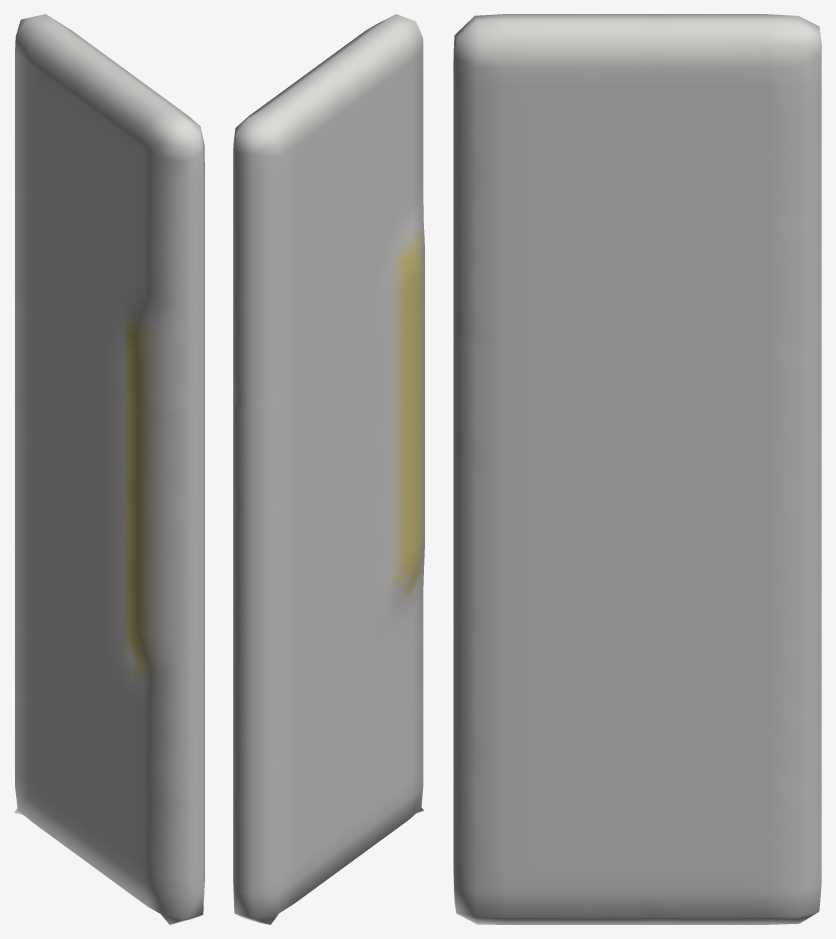
The model's file is fridge-door.glb.
3 renders of one model, left to right at view 1: azimuth 30°, elevation 25°; view 2: azimuth 150°, elevation 25°; view 3: azimuth 270°, elevation 25°, orthographic. The views are drawn at different scales.
Visible parts, largest first — view 1: fridge-door; view 2: fridge-door; view 3: fridge-door.
Part boxes in pixels (bbox=[...]): fridge-door: bbox=[14, 14, 204, 924]; fridge-door: bbox=[233, 14, 424, 924]; fridge-door: bbox=[453, 14, 821, 924].
Size of the model in its own units: 0.1147 by 1.6 by 0.592.
